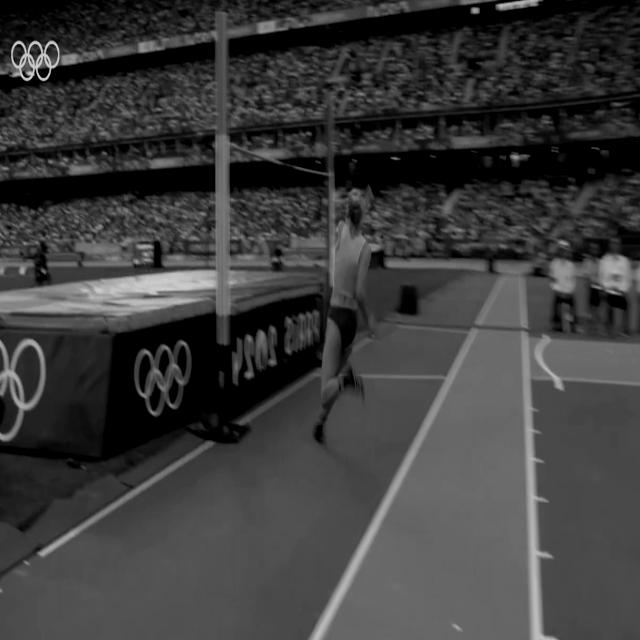run: (310, 190, 372, 448)
